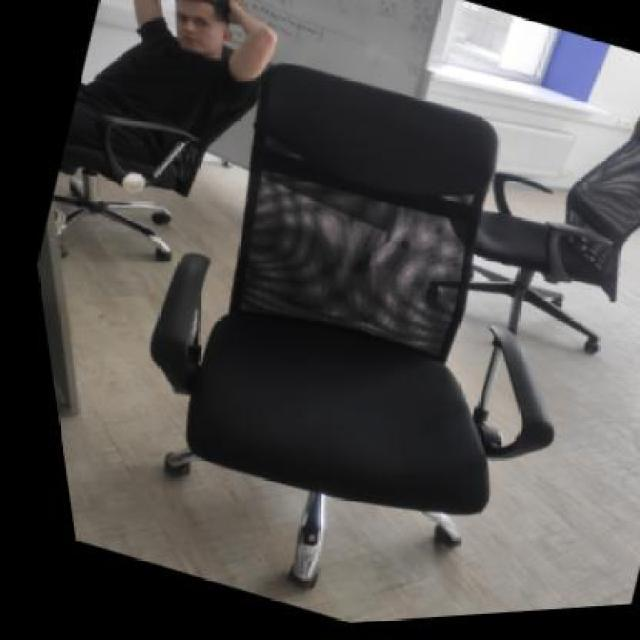chair: (136, 57, 532, 584), (352, 30, 638, 412), (5, 0, 308, 315)
